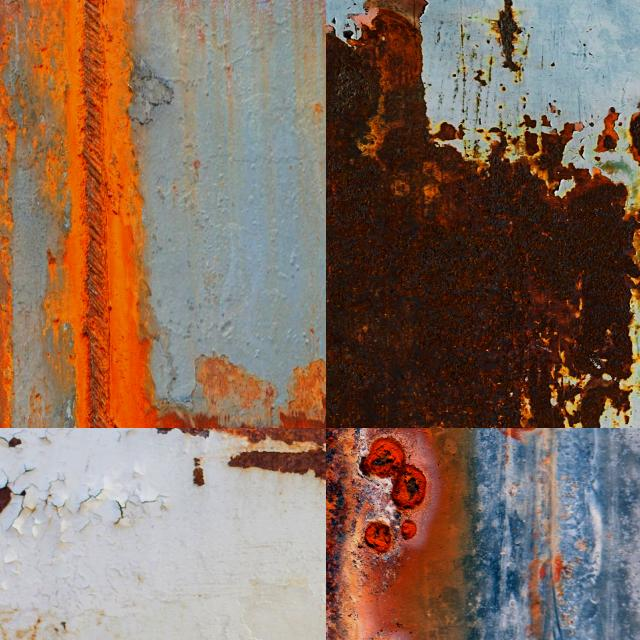Pitting Corrosion: (326, 428, 458, 640)
Uniform Corrosion: (326, 0, 640, 428), (22, 0, 326, 428), (525, 440, 578, 640), (228, 447, 326, 480), (212, 428, 326, 445), (0, 485, 11, 513)
